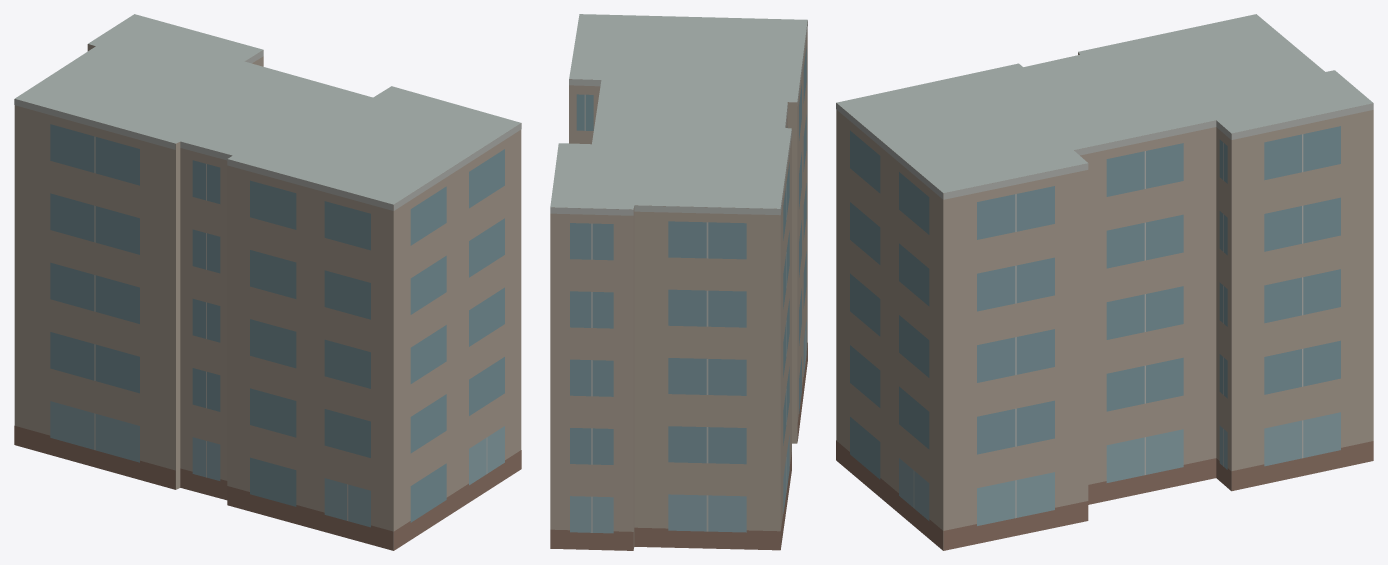
The model's file is survey-upis-32626599.glb.
The picture shows the model from 3 angles, left to right: view 1: azimuth 30°, elevation 25°; view 2: azimuth 150°, elevation 25°; view 3: azimuth 270°, elevation 25°; orthographic projection. The views are drawn at different scales.
Visible parts, largest first — view 1: survey-upis-32626599.tmp; view 2: survey-upis-32626599.tmp; view 3: survey-upis-32626599.tmp.
Part boxes in pixels (x1,y1,x2,y2): survey-upis-32626599.tmp: [14, 14, 521, 550]; survey-upis-32626599.tmp: [550, 14, 807, 550]; survey-upis-32626599.tmp: [836, 14, 1373, 550].
Size of the model in its own units: 14.19 by 13.2 by 17.99.
